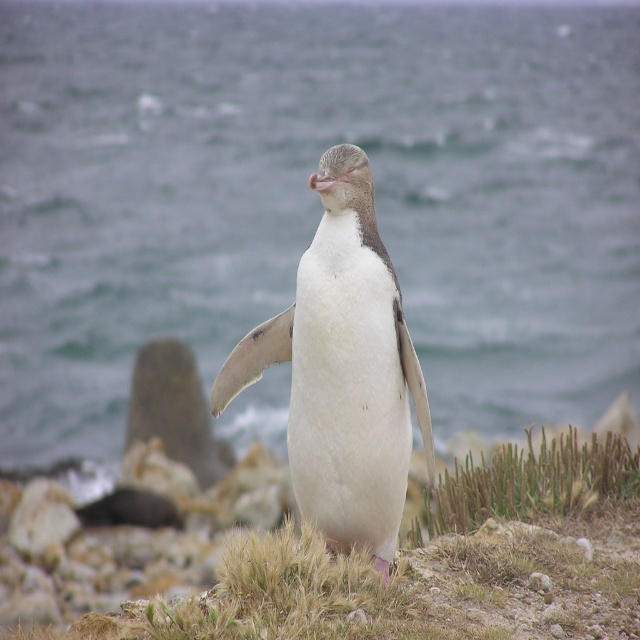Penguin: (209, 137, 440, 581)
